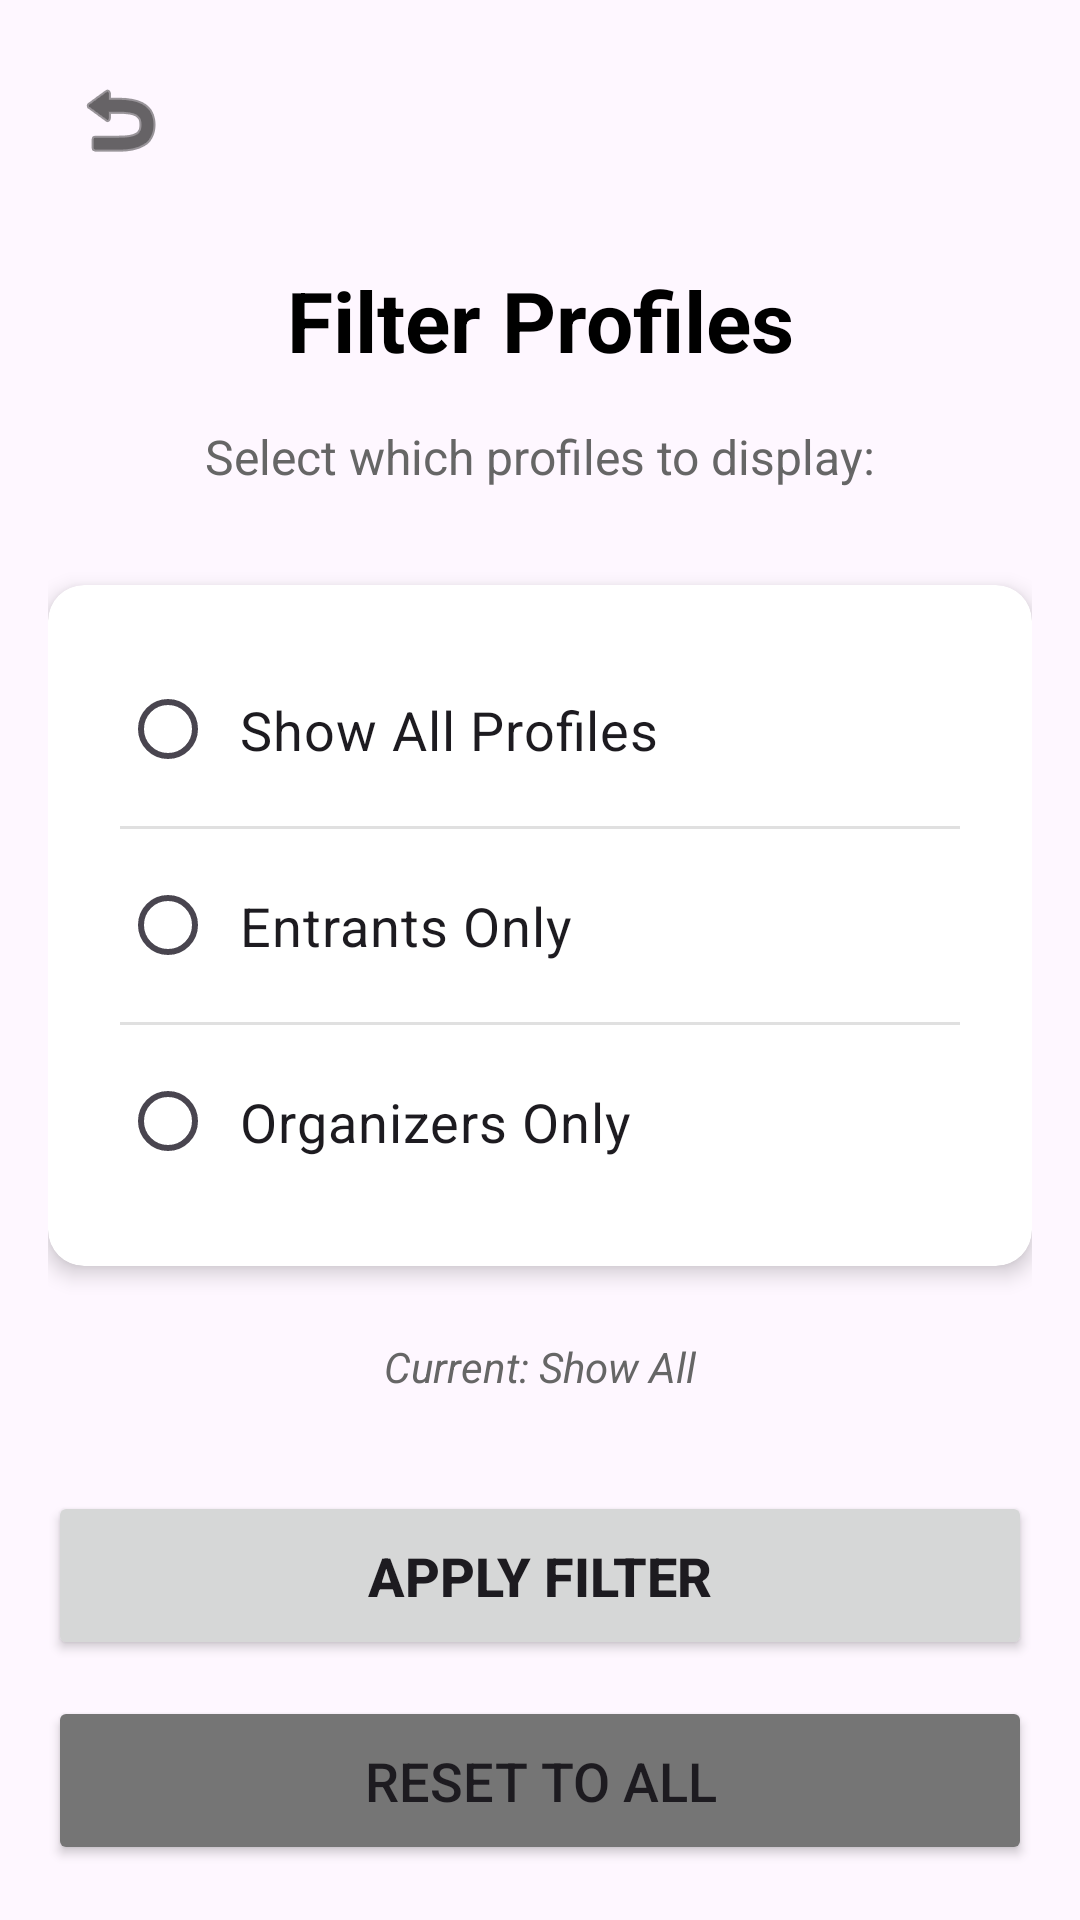

Named icons in this screenshot (1080x1920) and their bounding boxes, (x1, y1, x2, y2):
Back: (87, 89, 156, 152)
